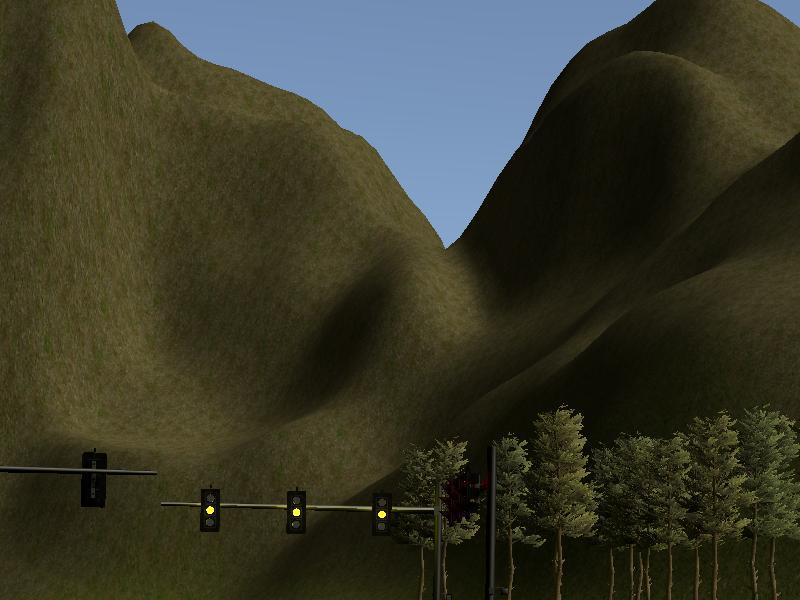Yellow: (285, 489, 306, 534), (372, 493, 392, 536), (200, 489, 220, 531)
